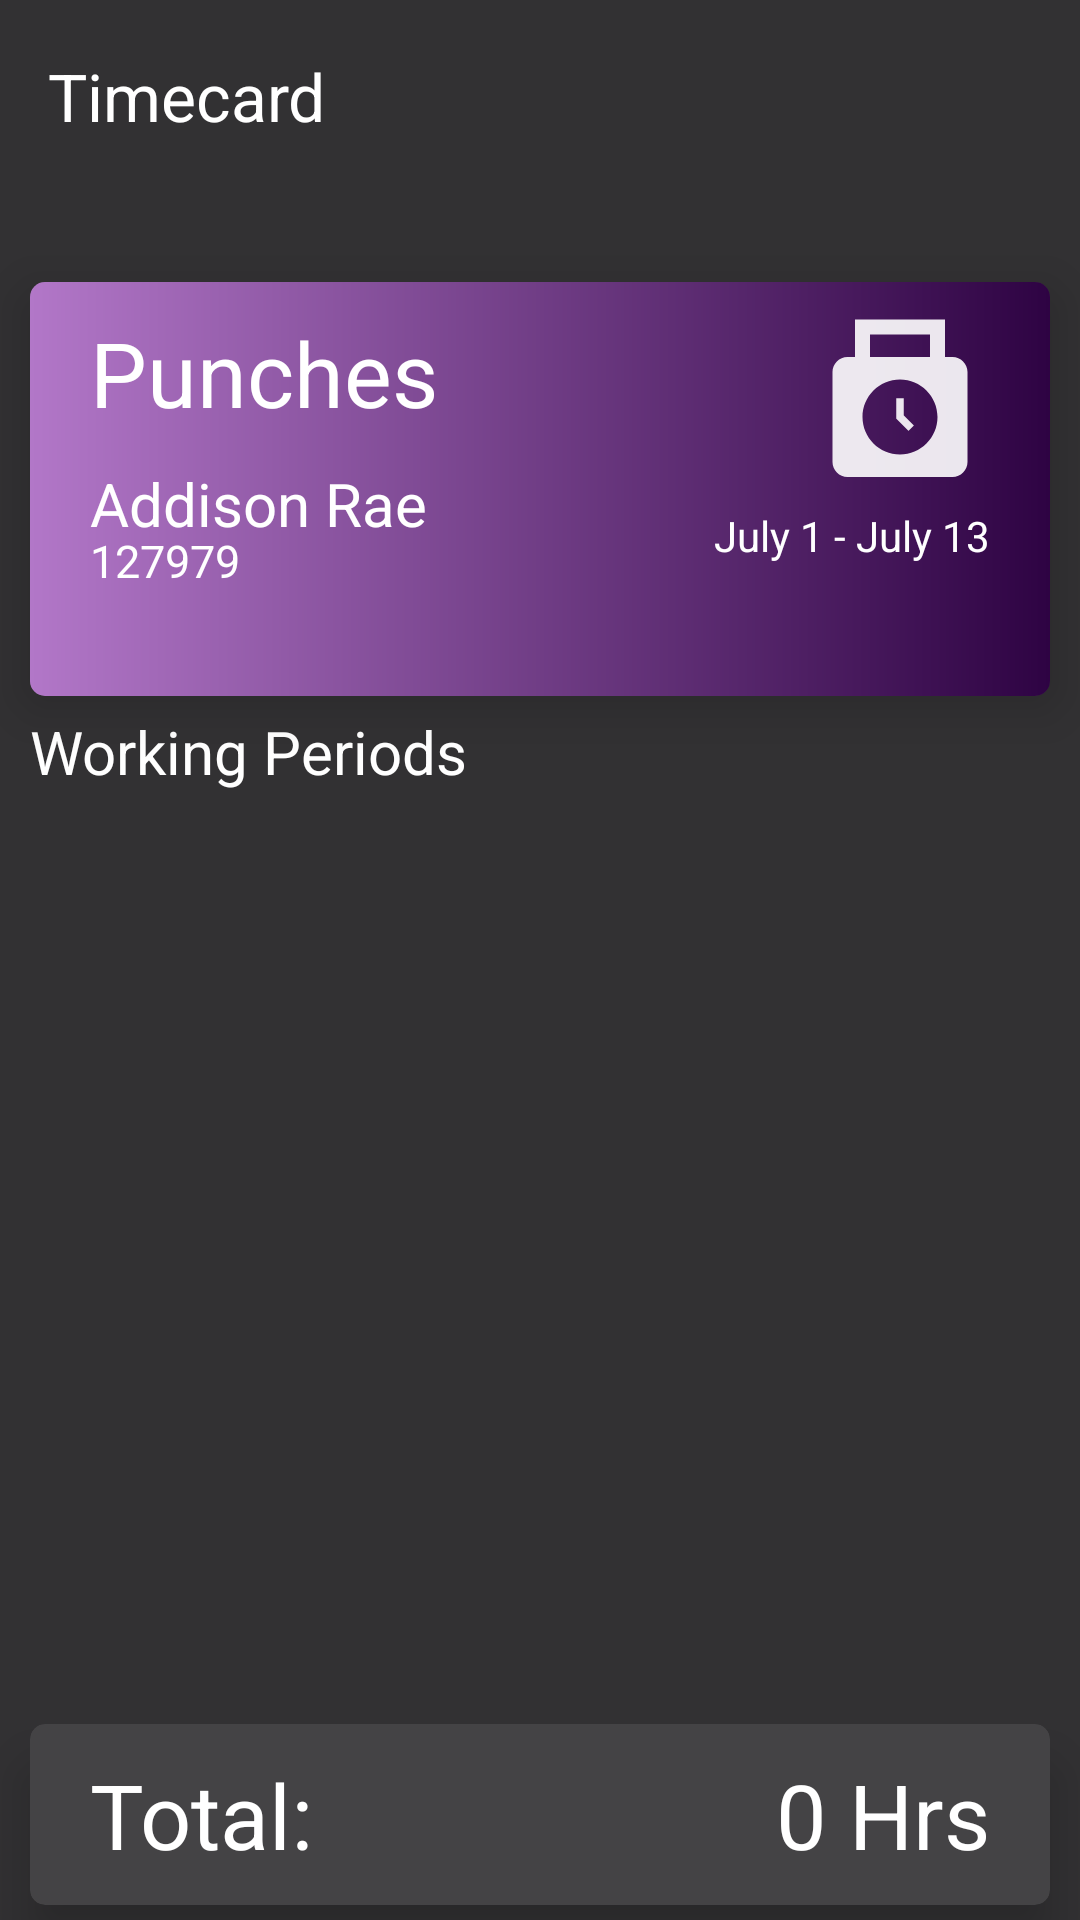

Icon click points for this 1080 × 1920 phone screenshot, format point (x, y):
punch clock: point (900, 398)
